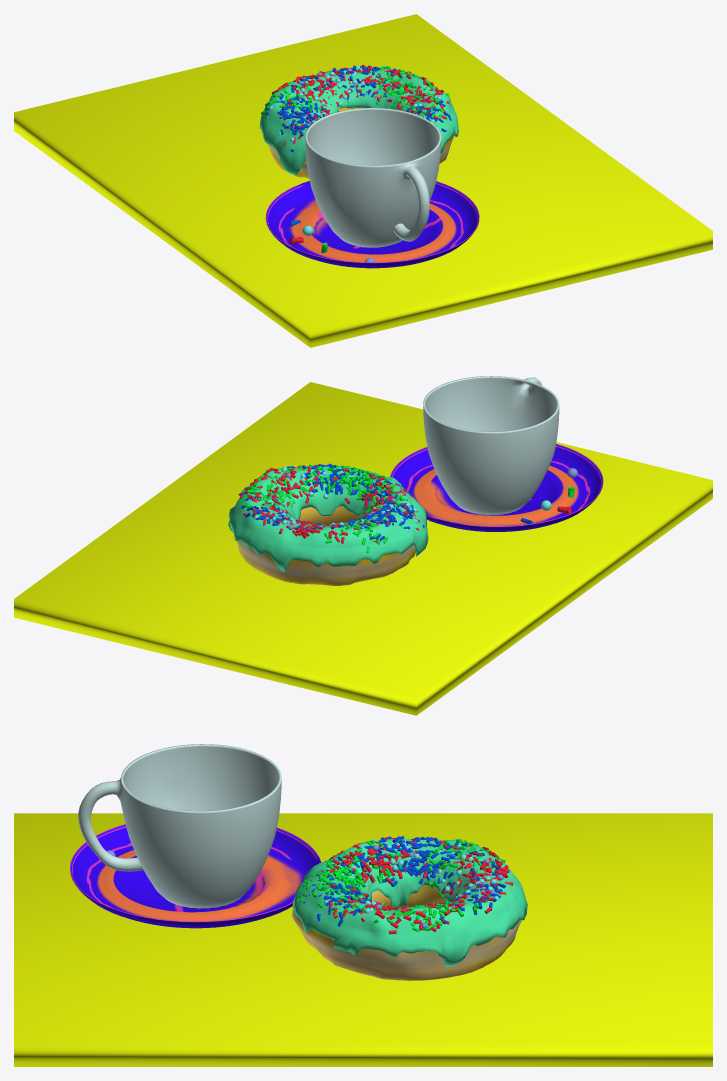
File: donut.fbx
The picture shows the model from 3 angles, top to bottom: view 1: azimuth 30°, elevation 25°; view 2: azimuth 150°, elevation 25°; view 3: azimuth 270°, elevation 25°; orthographic projection. The views are drawn at different scales.
Visible parts, largest first — view 1: Plane, cap, Cylinder.942, Torus.001; view 2: Plane, cap, Torus.001, Cylinder.942, Torus; view 3: Plane, cap, Torus.001, Cylinder.942, Torus.
Part boxes in pixels (left/top/right/bottom): Plane: left=14, top=14, right=712, bottom=347; cap: left=305, top=108, right=441, bottom=247; Cylinder.942: left=265, top=181, right=479, bottom=268; Torus.001: left=259, top=67, right=458, bottom=175; Plane: left=14, top=382, right=712, bottom=715; cap: left=423, top=376, right=559, bottom=515; Torus.001: left=228, top=466, right=428, bottom=571; Cylinder.942: left=390, top=444, right=603, bottom=531; Torus: left=236, top=506, right=415, bottom=585; Plane: left=14, top=813, right=712, bottom=1066; cap: left=78, top=744, right=281, bottom=908; Torus.001: left=292, top=839, right=527, bottom=967; Cylinder.942: left=70, top=824, right=320, bottom=928; Torus: left=292, top=885, right=521, bottom=980.
Size of the model in its own units: 679 by 191 by 866.
